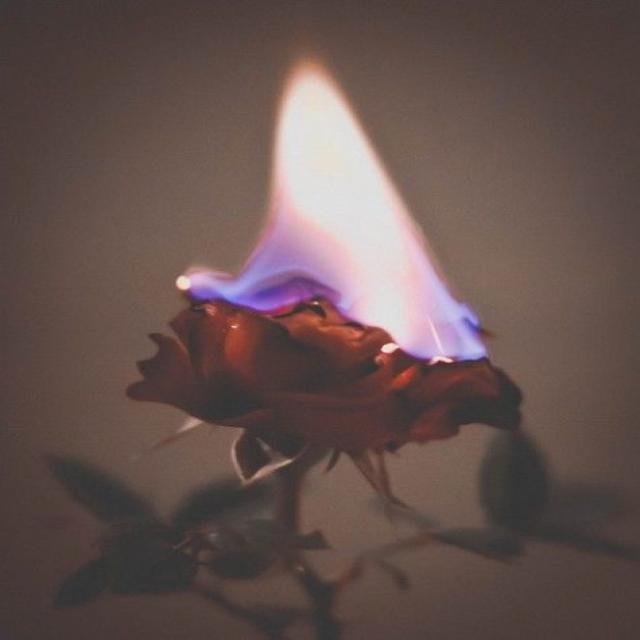fire: (184, 66, 488, 365)
